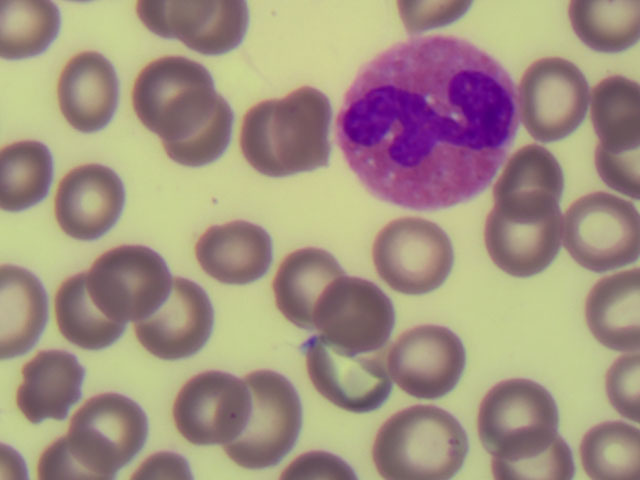RBC: (49, 45, 133, 134), (47, 162, 131, 251), (94, 230, 178, 319), (47, 266, 131, 355), (141, 279, 225, 368), (201, 213, 285, 302), (168, 107, 252, 196), (141, 48, 225, 137), (251, 89, 335, 178), (259, 243, 343, 332), (323, 274, 407, 363), (366, 206, 450, 295), (392, 306, 476, 395), (293, 339, 377, 428), (238, 376, 322, 465), (157, 365, 241, 454), (89, 386, 173, 475), (378, 391, 462, 480), (482, 368, 566, 457), (556, 260, 640, 349), (556, 181, 640, 270), (475, 200, 559, 289), (494, 138, 578, 227), (512, 50, 596, 139), (1, 342, 84, 431), (1, 135, 57, 223), (1, 261, 49, 357), (575, 410, 640, 480), (491, 429, 579, 480), (590, 71, 640, 146), (590, 120, 640, 195), (590, 349, 640, 424), (1, 1, 61, 63), (183, 1, 257, 45), (580, 1, 640, 52), (127, 1, 192, 45), (34, 439, 101, 480)
WBC: (346, 39, 513, 201)
